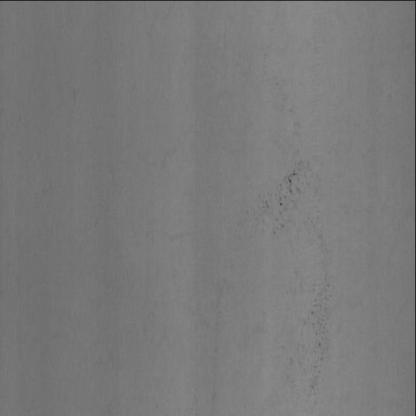inclusion: (253, 147, 318, 238), (288, 276, 332, 404)
